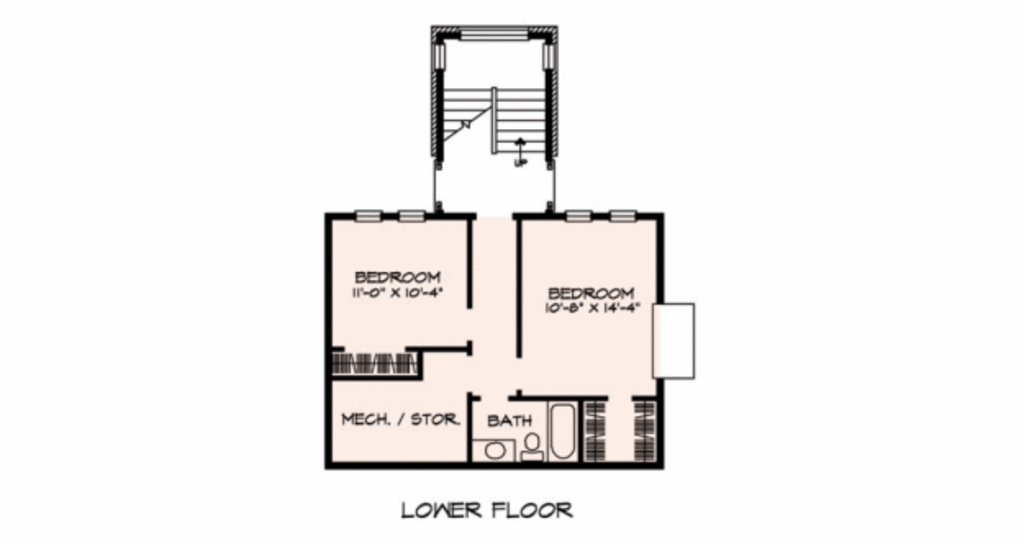large_sink: (520, 429, 546, 465)
small_sink: (474, 441, 516, 464)
stairs: (444, 85, 552, 181)
tub: (547, 398, 582, 462)
window: (458, 18, 531, 43), (429, 36, 448, 75), (354, 205, 386, 226), (567, 207, 594, 231), (396, 207, 425, 228), (609, 208, 642, 226), (542, 43, 559, 74)
